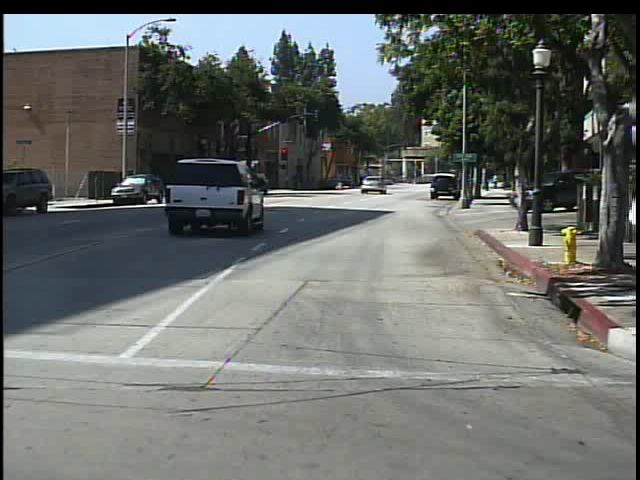person: (332, 172, 348, 192), (491, 171, 501, 191)
